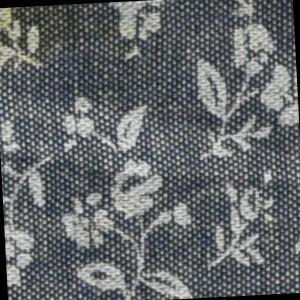Oil Stain: (1, 4, 90, 66)
